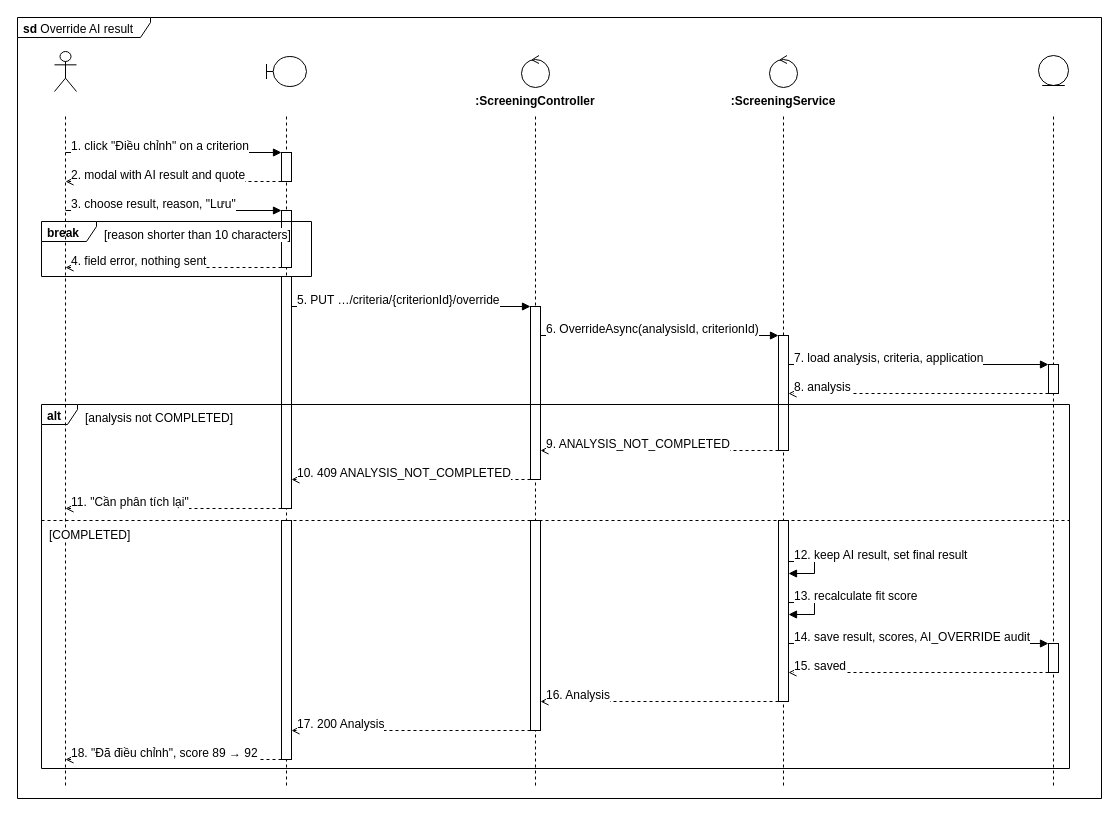
Some shapes in this 1119 by 816 pixel diagram are drawn without their labels. The box of each missing label's shape, as (x1, y1, x2, y2) in pixels:
:Criteria evaluation tab: (266, 56, 306, 86)
:Database: (1038, 54, 1068, 86)
Recruiter: (54, 50, 76, 92)
